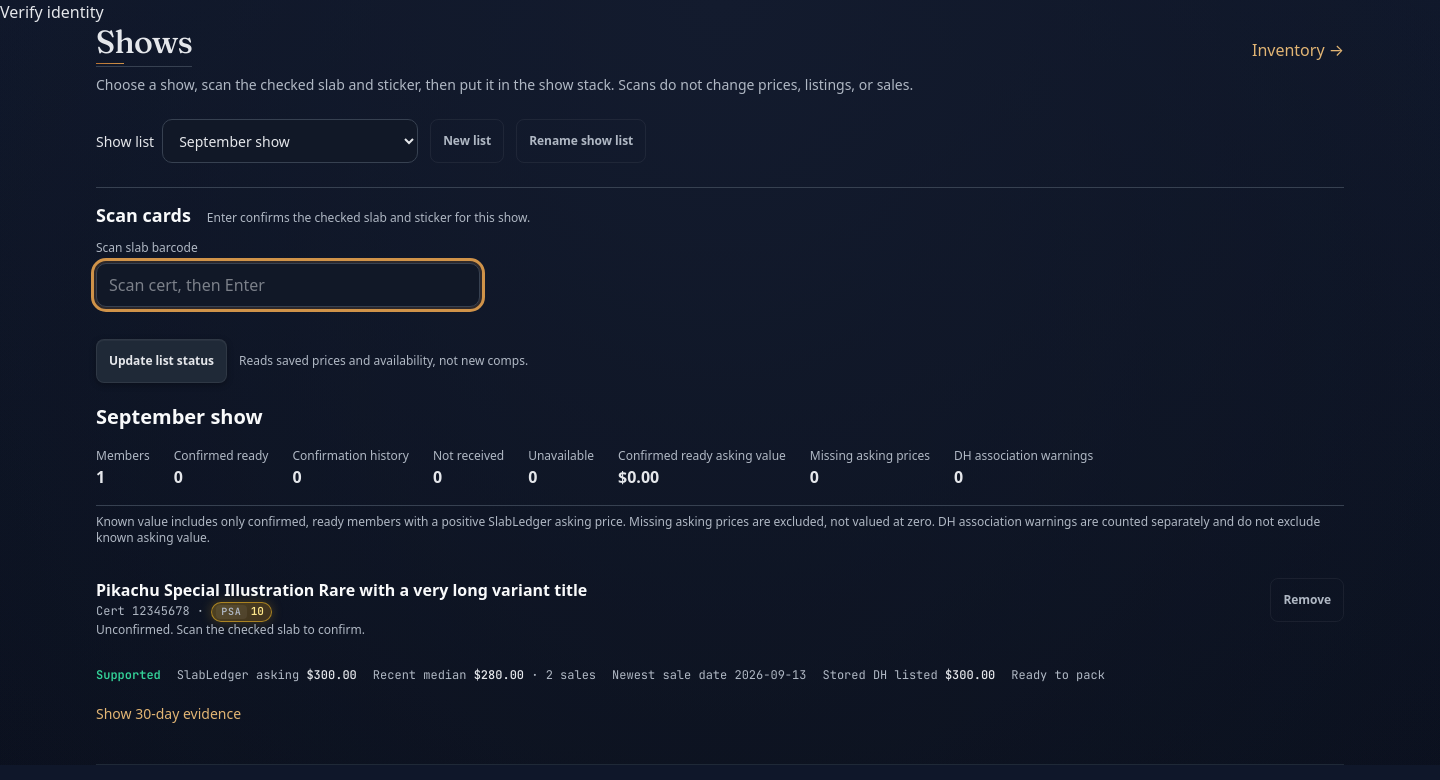
Test: retains an uncertain command and retries exactly its original ID and generation
Type "12345678" into the field labelled "Scan slab barcode". click: (288, 285)
box: [96,263,480,307]
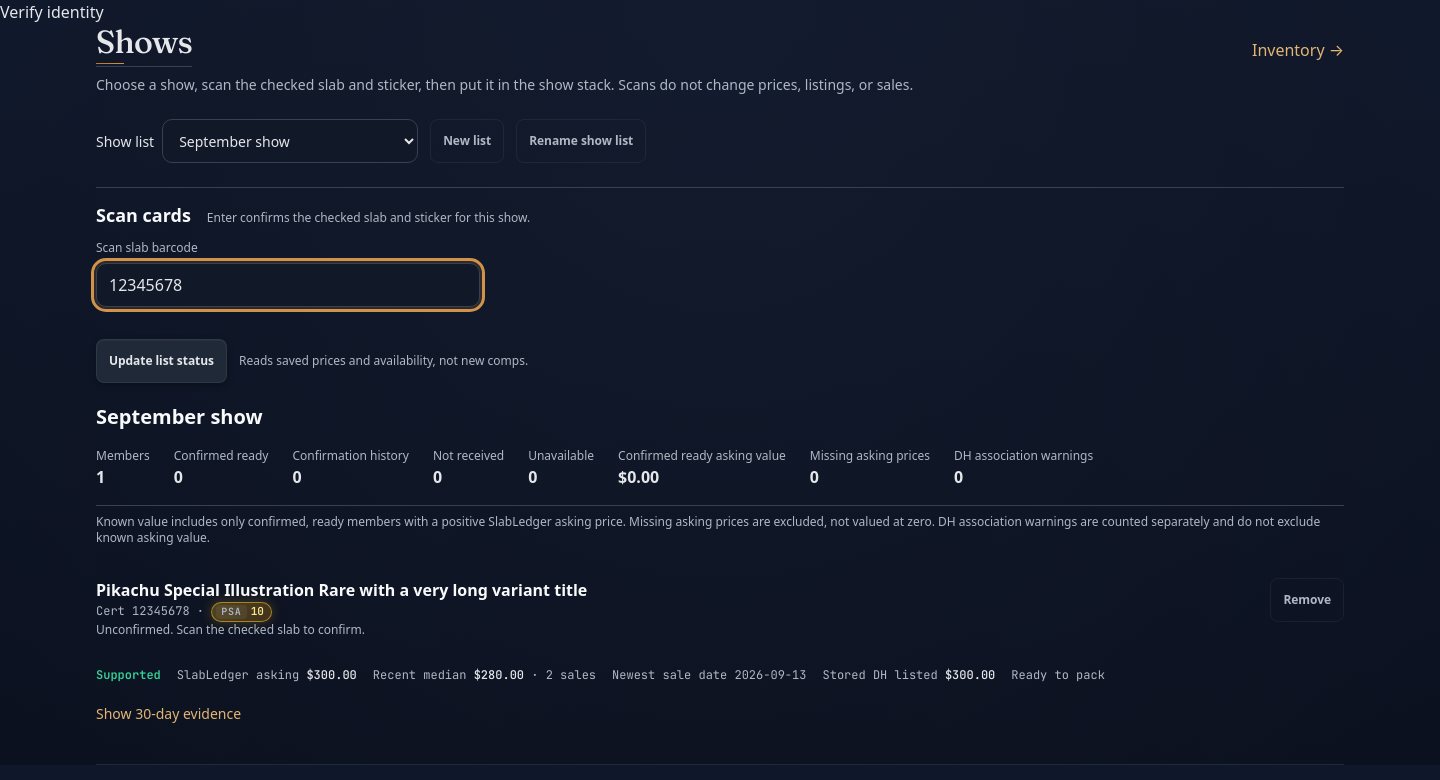
Press Enter in the field labelled "Scan slab barcode", box [96,263,480,307]
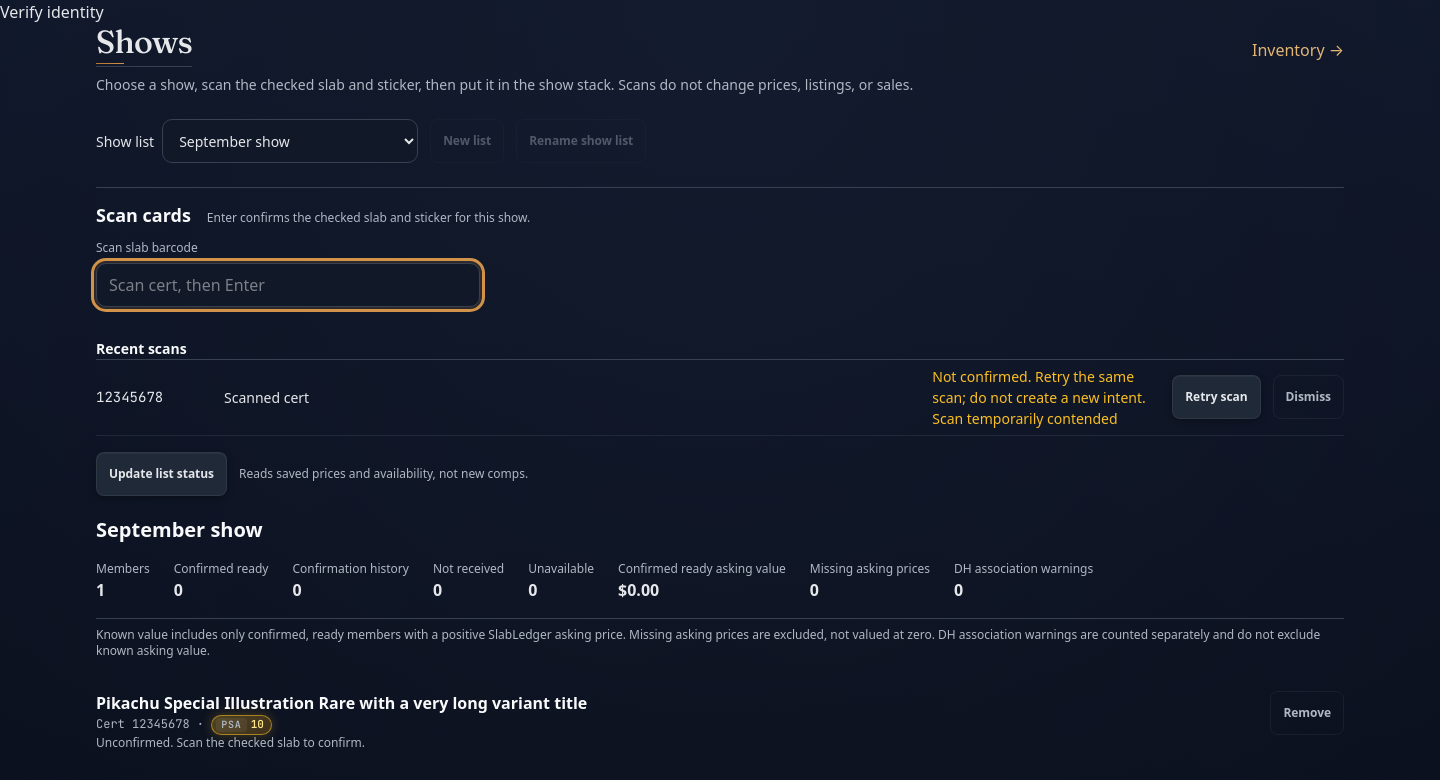
Expected: the element labelled "Confirmed ready asking value" shows "$0.00", [618,579,659,601]
Click the button "Retry scan". click: (1216, 397)
box: [1172,375,1261,419]
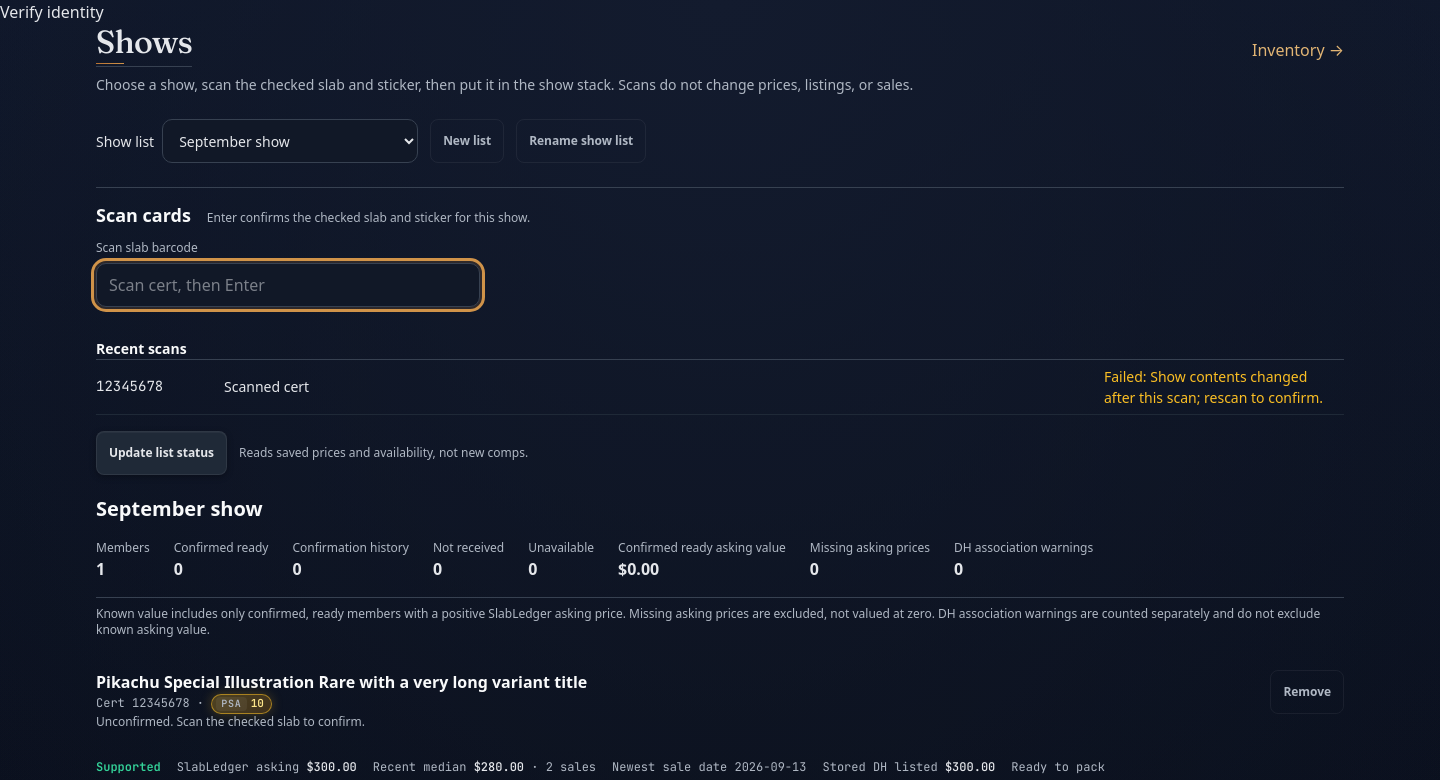
Now the text "Show contents changed after this scan; rescan to confirm" is shown, box [1104,367,1323,407]
